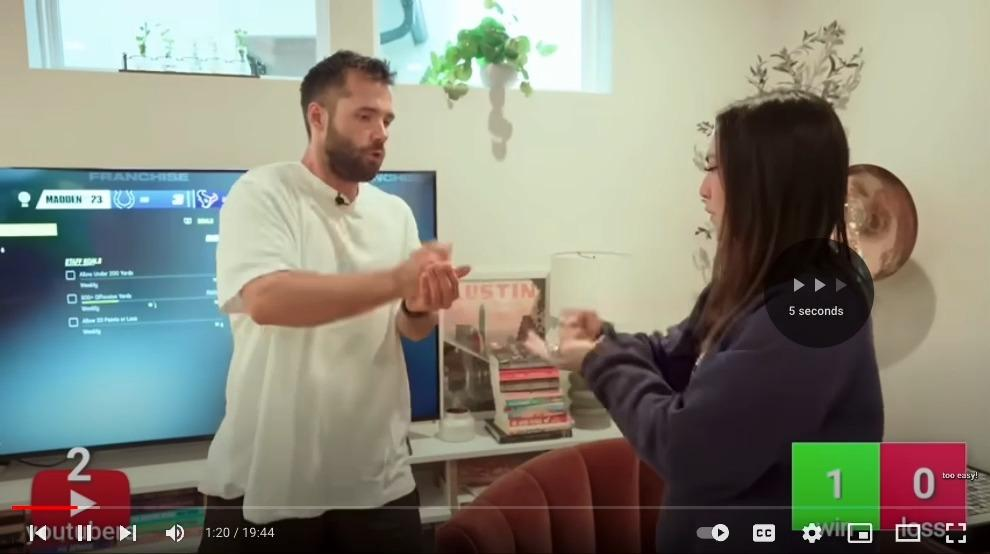Rock: (399, 239, 454, 304), (559, 305, 601, 346)
